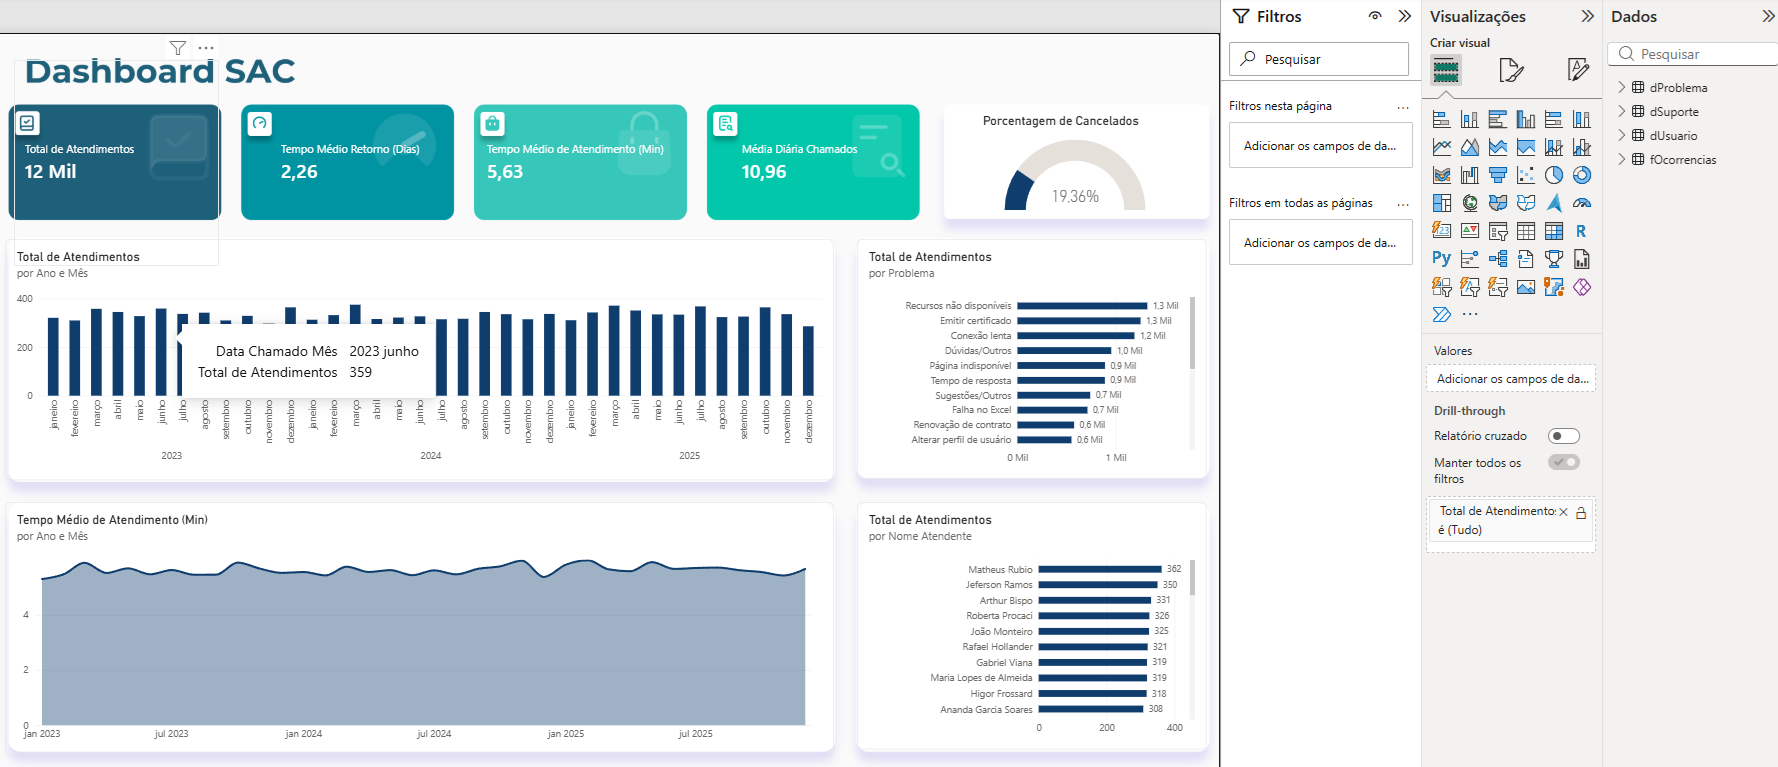

The dashboard page shown, as its layout file describes it:
{"tool":"powerbi","page":{"name":"Página 1","canvas":[1920,1080],"ordinal":0},"visuals":[{"type":"columnChart","fields":{"Category":["fOcorrencias.Data Chamado.Variation.Hierarquia de datas.Ano","fOcorrencias.Data Chamado.Variation.Hierarquia de datas.Mês"],"Y":["fOcorrencias.Total de Atendimentos"]},"box":[147.4,300.5,1209.5,351.6],"z":0},{"type":"actionButton","box":[0,0,100,40],"z":3},{"type":"cardVisual","fields":{"Data":["fOcorrencias.Tempo Médio Retorno (Dias)"]},"box":[534,39.4,300,300],"z":4},{"type":"cardVisual","fields":{"Data":["fOcorrencias.Tempo Médio de Atendimento (Min)"]},"box":[834.5,39.4,300,300],"z":5},{"type":"cardVisual","fields":{"Data":["fOcorrencias.Média Diária Chamados"]},"box":[1206.6,39.4,300,300],"z":6},{"type":"gauge","fields":{"Y":["fOcorrencias.Porcentagem de Cancelados"]},"box":[1558.2,103.6,300.5,170.7],"z":7},{"type":"areaChart","fields":{"Category":["fOcorrencias.Data Chamado.Variation.Hierarquia de datas.Ano","fOcorrencias.Data Chamado.Variation.Hierarquia de datas.Mês"],"Y":["fOcorrencias.Tempo Médio de Atendimento (Min)"]},"box":[147.4,684.3,1209.5,370.6],"z":8},{"type":"cardVisual","fields":{"Data":["fOcorrencias.Total de Atendimentos"]},"box":[160.3,39.3,300,300],"z":9},{"type":"barChart","fields":{"Category":["dProblema.Problema"],"Y":["fOcorrencias.Total de Atendimentos"]},"box":[1390.1,300.9,510.3,351.6],"z":10},{"type":"barChart","fields":{"Category":["dSuporte.Nome Atendente"],"Y":["fOcorrencias.Total de Atendimentos"]},"box":[1390.1,683.6,510.3,361.4],"z":11}]}

Visuals, with their boxes on the page's 1920x1080 design canvas (x1, y1, x2, y2). These are canvas units, not pixel positions in the 1778x767 screenshot, which may show the page scaled, cropped or inside an application window:
columnChart - fOcorrencias.Data Chamado.Variation.Hierarquia de datas.Ano x fOcorrencias.Data Chamado.Variation.Hierarquia de datas.Mês: box=[147, 300, 1357, 652]
actionButton: box=[0, 0, 100, 40]
cardVisual - fOcorrencias.Tempo Médio Retorno (Dias): box=[534, 39, 834, 339]
cardVisual - fOcorrencias.Tempo Médio de Atendimento (Min): box=[834, 39, 1134, 339]
cardVisual - fOcorrencias.Média Diária Chamados: box=[1207, 39, 1507, 339]
gauge - fOcorrencias.Porcentagem de Cancelados: box=[1558, 104, 1859, 274]
areaChart - fOcorrencias.Data Chamado.Variation.Hierarquia de datas.Ano x fOcorrencias.Data Chamado.Variation.Hierarquia de datas.Mês: box=[147, 684, 1357, 1055]
cardVisual - fOcorrencias.Total de Atendimentos: box=[160, 39, 460, 339]
barChart - dProblema.Problema x fOcorrencias.Total de Atendimentos: box=[1390, 301, 1900, 652]
barChart - dSuporte.Nome Atendente x fOcorrencias.Total de Atendimentos: box=[1390, 684, 1900, 1045]
